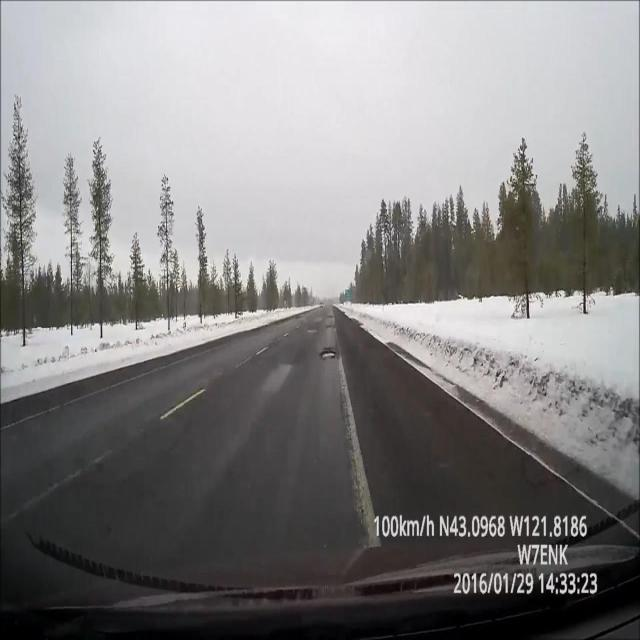pothole: (321, 351, 336, 359)
